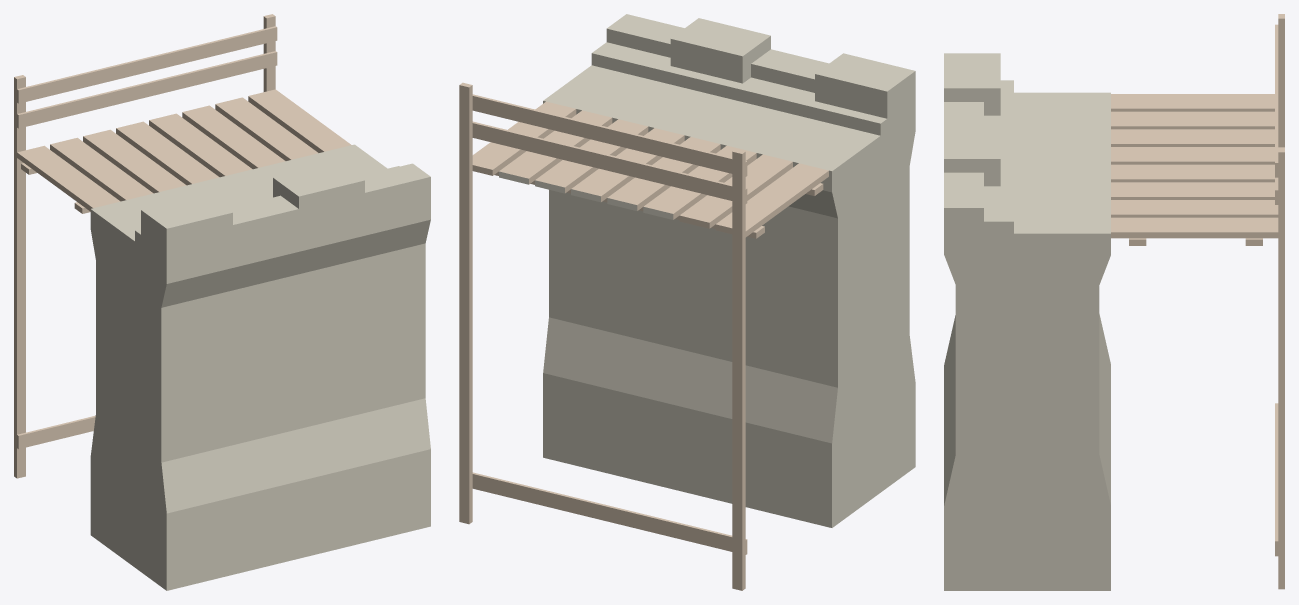
File: wallNarrowWoodFence.fbx
3 views of the same model, side by side, from view 1: azimuth 30°, elevation 25°; view 2: azimuth 150°, elevation 25°; view 3: azimuth 270°, elevation 25° (orthographic). The views are drawn at different scales.
Visible parts, largest first — view 1: wallNarrowWoodFence, bridge 6; view 2: wallNarrowWoodFence, bridge 6; view 3: wallNarrowWoodFence, bridge 6.
Boxes of the visible parts, x1,y1,x2,y2 form: wallNarrowWoodFence: [90, 144, 430, 590]; bridge 6: [14, 14, 351, 478]; wallNarrowWoodFence: [543, 14, 915, 527]; bridge 6: [459, 82, 828, 590]; wallNarrowWoodFence: [944, 53, 1110, 590]; bridge 6: [1111, 14, 1284, 589].
Bounding box in the file's own units: 300 × 433 × 306.
